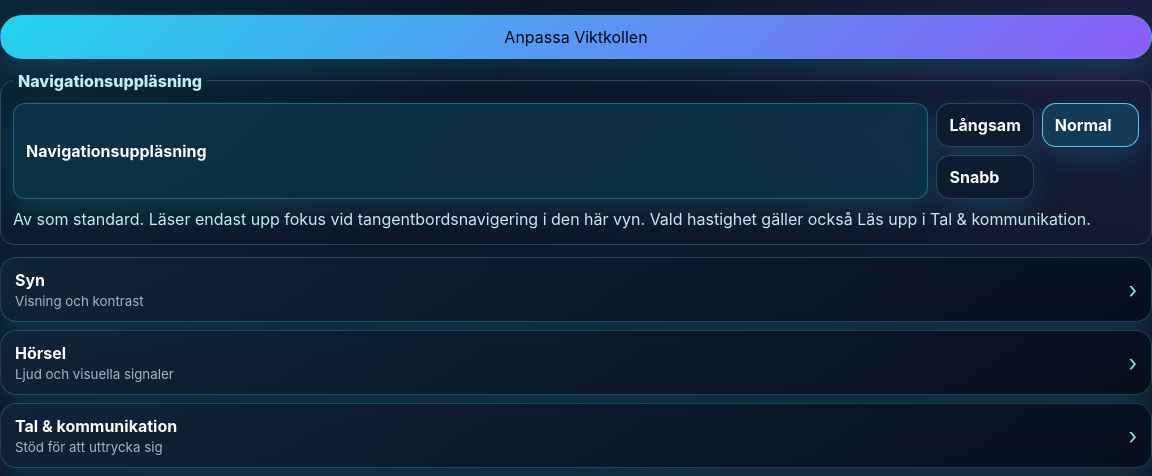
Test: AccessibilityCommunication AAC symbol tiles (A11Y-7D) › dont-understand / write-instead / repeat all work
Click the button "Tal & kommunikation Stöd för att uttrycka sig ›".
click(96, 426)  # box x1=0 y1=403 x2=1151 y2=468
(page scrolled)
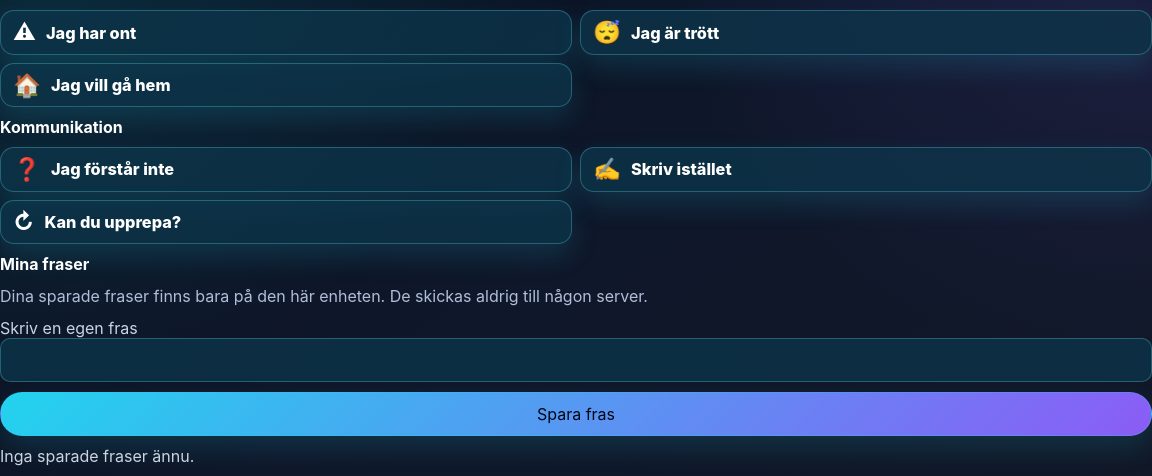
Click the button "❓ Jag förstår inte".
click(112, 169)  # box x1=0 y1=147 x2=572 y2=192
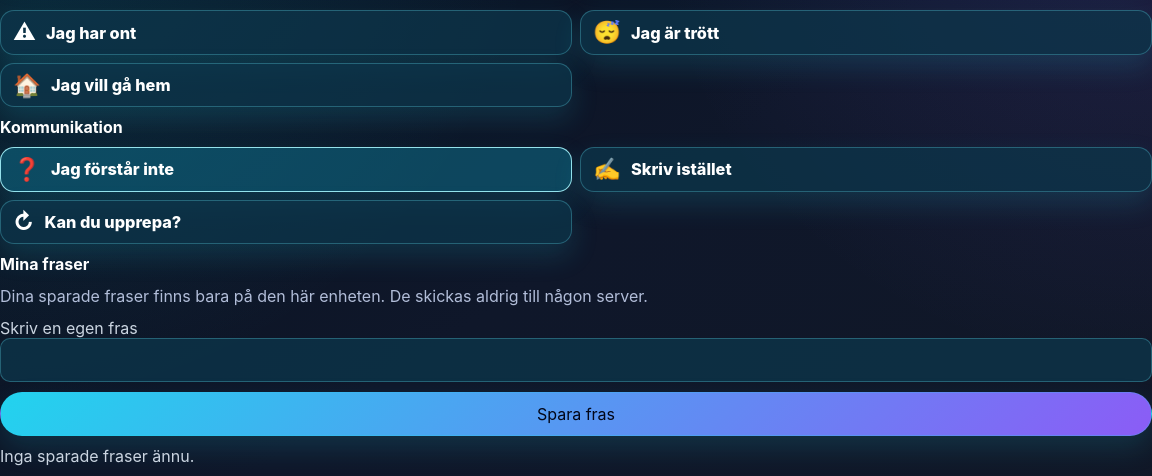
Click the button "✍ Skriv istället".
click(681, 169)  # box x1=580 y1=147 x2=1151 y2=192
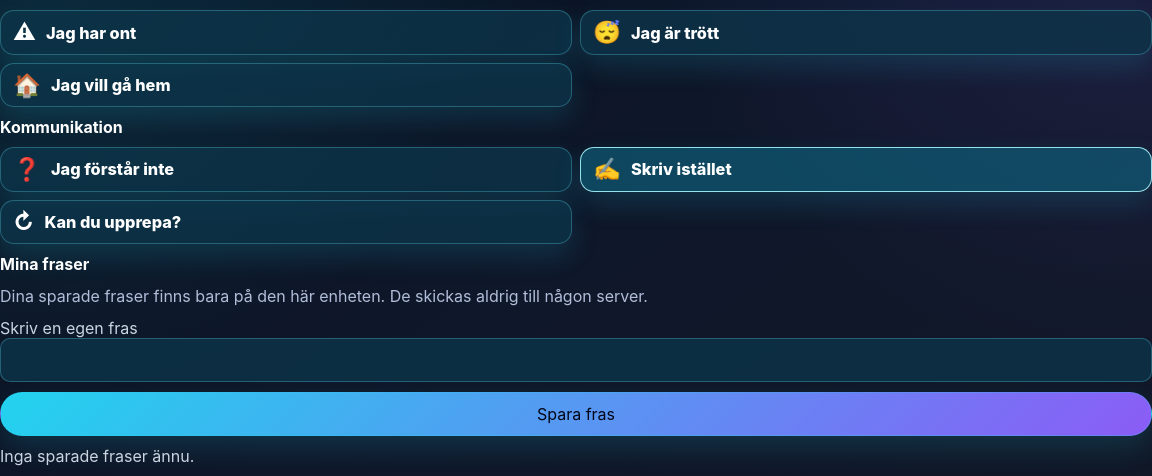
Click the button "↻ Kan du upprepa?".
click(113, 222)  # box x1=0 y1=200 x2=572 y2=244
(page scrolled)
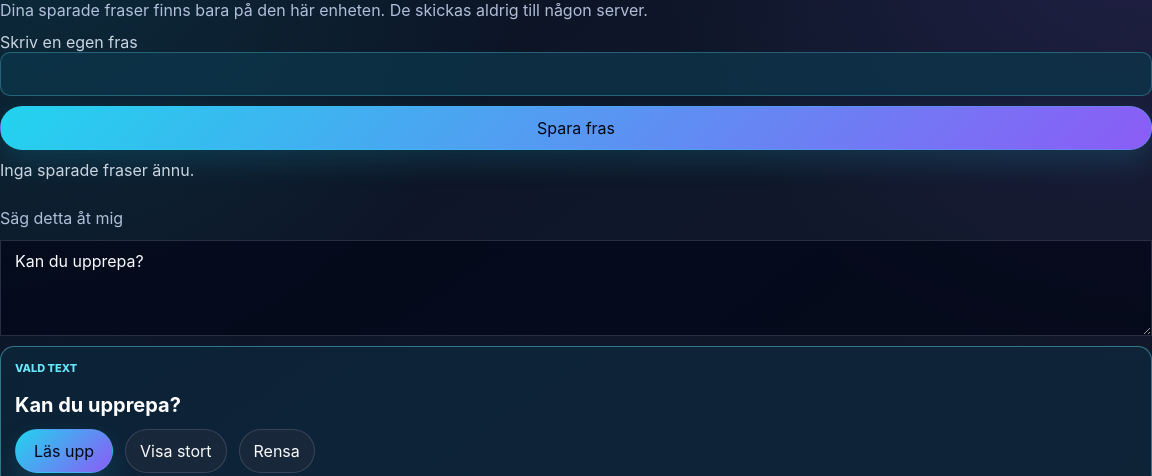
Now the text box labelled "Säg detta åt mig" holds "Kan du upprepa?", box x1=0 y1=240 x2=1151 y2=336
